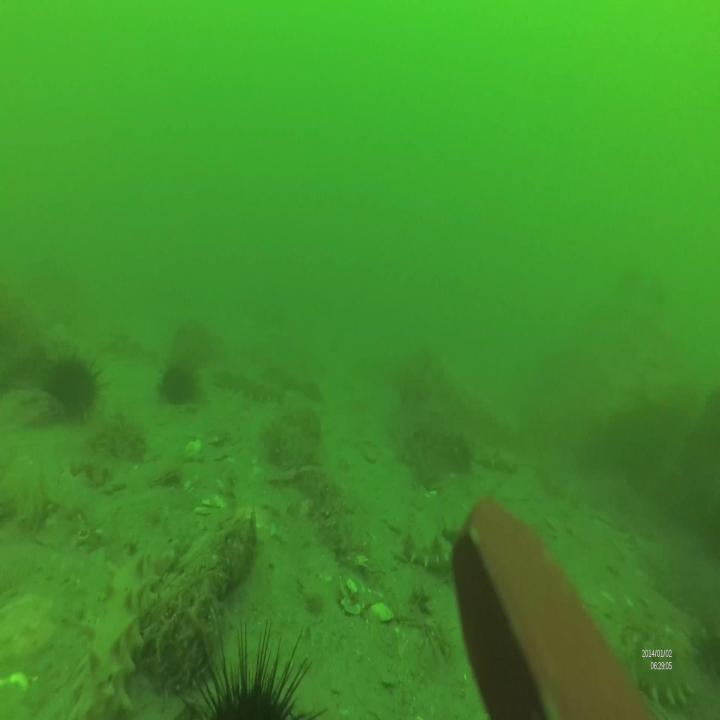echinus: (174, 618, 330, 720), (42, 357, 111, 422), (156, 359, 207, 407)
holothurian: (70, 545, 160, 720), (631, 642, 696, 708), (402, 520, 456, 576), (215, 366, 286, 408), (470, 439, 520, 478)
